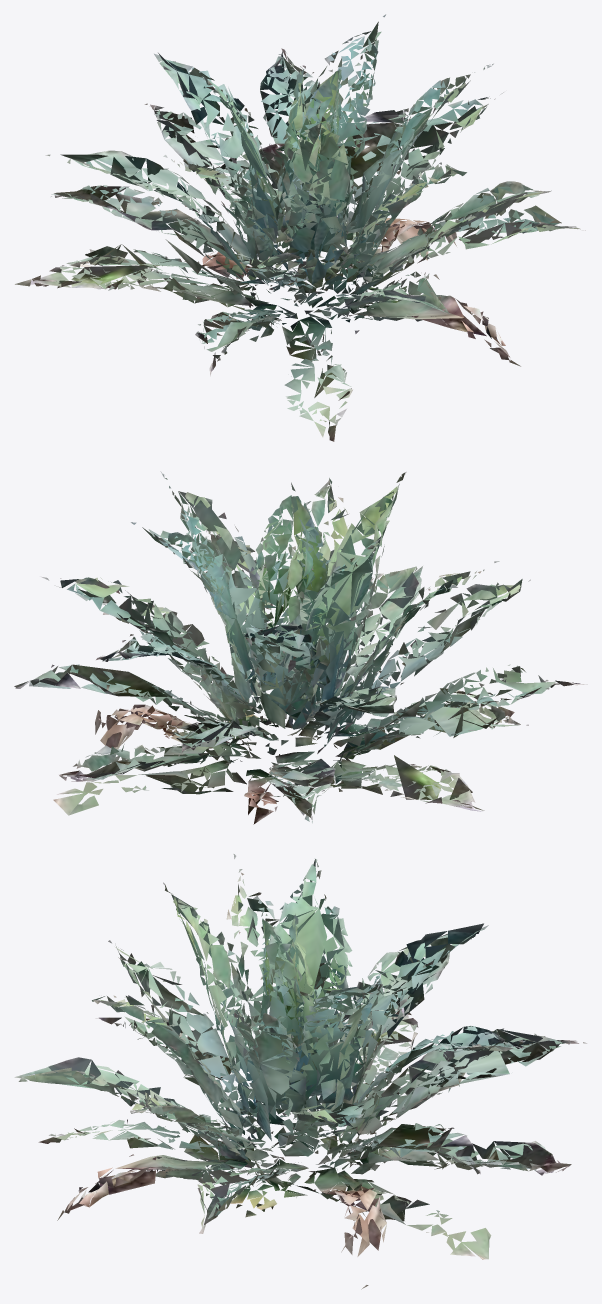
Rendered from maguey.glb.
3 views of the same model, one above another, from view 1: azimuth 30°, elevation 25°; view 2: azimuth 150°, elevation 25°; view 3: azimuth 270°, elevation 25° (orthographic). The views are drawn at different scales.
Visible parts, largest first — view 1: model_tex_u1_v1_0; view 2: model_tex_u1_v1_0; view 3: model_tex_u1_v1_0.
Boxes of the visible parts, x1=… form: model_tex_u1_v1_0: x1=15, y1=14, x2=585, y2=441; model_tex_u1_v1_0: x1=14, y1=471, x2=587, y2=824; model_tex_u1_v1_0: x1=14, y1=854, x2=586, y2=1289.
Size of the model in its own units: 1.83 by 1.07 by 1.82.
1 material, 1 textured.
